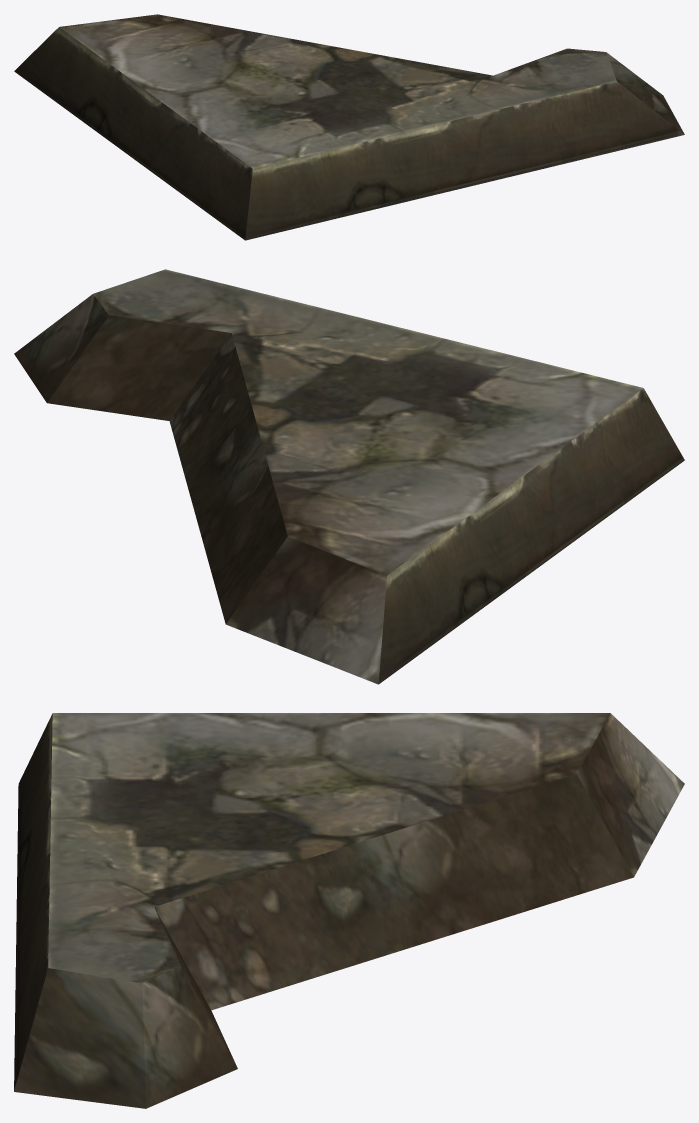
Rendered from F_dizhuan007.fbx.
3 views of the same model, one above another, from view 1: azimuth 30°, elevation 25°; view 2: azimuth 150°, elevation 25°; view 3: azimuth 270°, elevation 25° (orthographic). The views are drawn at different scales.
Parts seen in each view (by area): view 1: F_dizhuan007; view 2: F_dizhuan007; view 3: F_dizhuan007.
Boxes of the visible parts, left/top/right/bottom form: F_dizhuan007: left=14, top=14, right=684, bottom=240; F_dizhuan007: left=14, top=269, right=684, bottom=684; F_dizhuan007: left=14, top=713, right=684, bottom=1108.
Bounding box in the file's own units: 111 × 13.46 × 96.97.
